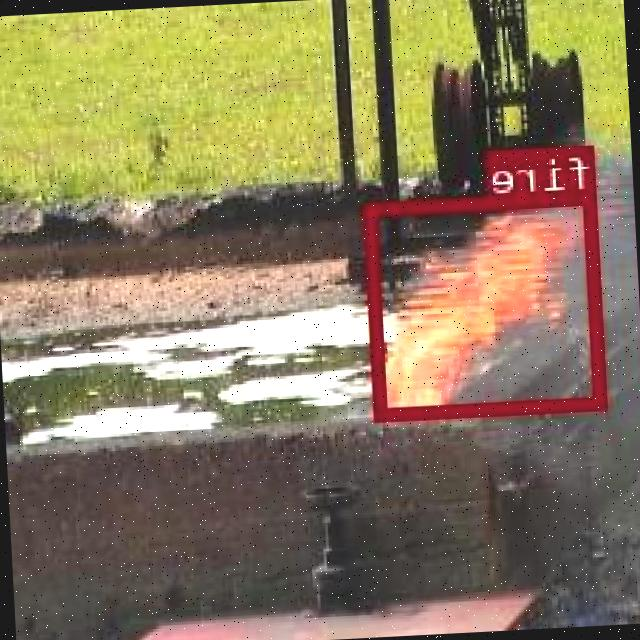fire: (367, 188, 610, 418)
